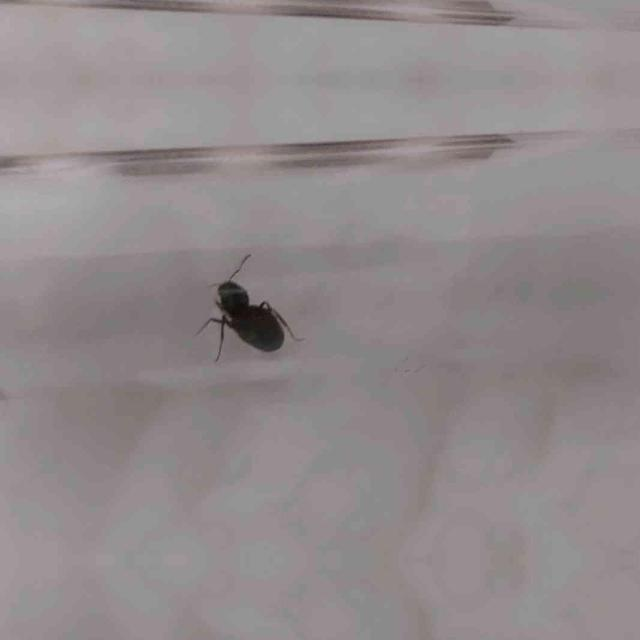Lasius: (196, 252, 314, 368)
